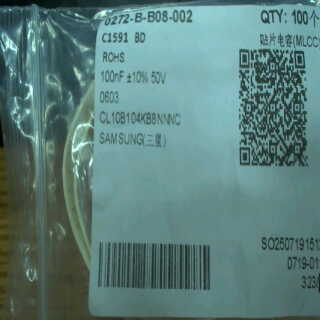100nF: (97, 68, 124, 87)
